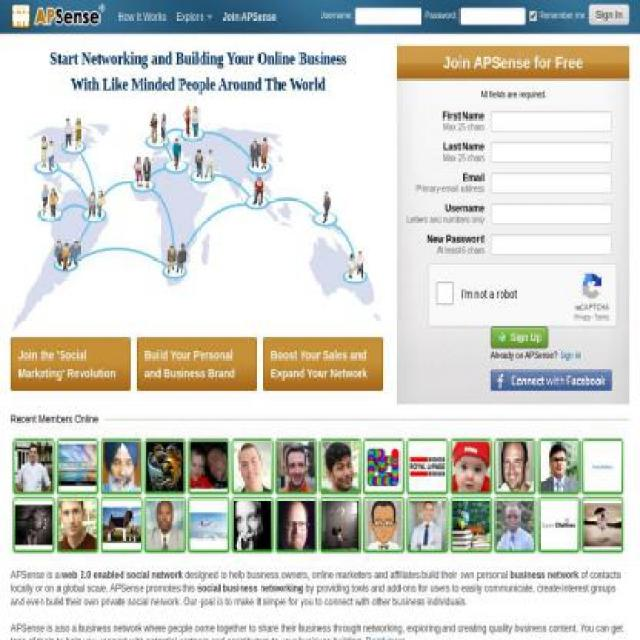button: (218, 1, 282, 33), (113, 1, 172, 33), (171, 1, 218, 33), (491, 327, 549, 348), (588, 4, 630, 25)
field: (491, 172, 612, 194), (491, 203, 612, 225), (491, 111, 612, 132), (491, 142, 612, 163), (491, 234, 612, 255), (355, 7, 422, 25), (459, 7, 526, 25), (528, 10, 538, 22)
